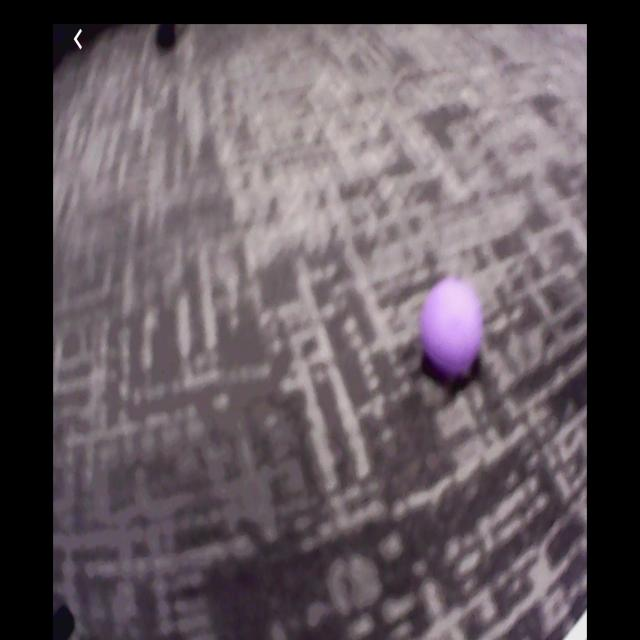ball: (422, 281, 483, 377)
